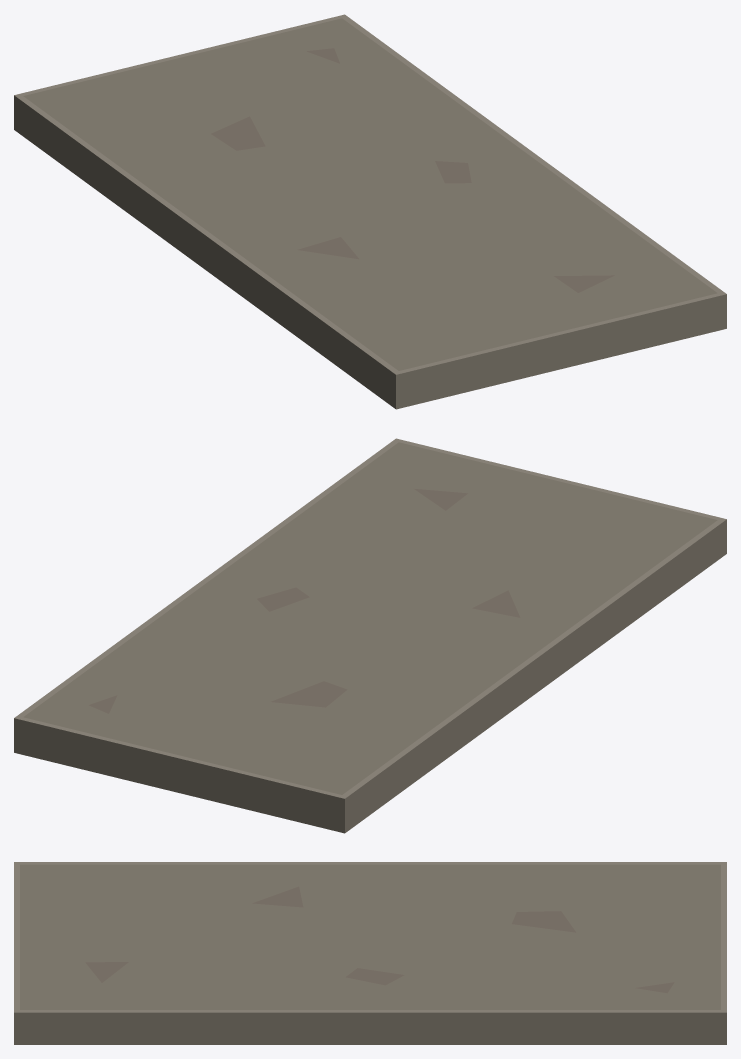
File: ConcrateSlabs_A_3_3.fbx
The picture shows the model from 3 angles, top to bottom: view 1: azimuth 30°, elevation 25°; view 2: azimuth 150°, elevation 25°; view 3: azimuth 270°, elevation 25°; orthographic projection. The views are drawn at different scales.
Visible parts, largest first — view 1: ConcrateSlabs_A_3_3; view 2: ConcrateSlabs_A_3_3; view 3: ConcrateSlabs_A_3_3.
Part boxes in pixels (x1=…): ConcrateSlabs_A_3_3: x1=14, y1=14, x2=726, y2=409; ConcrateSlabs_A_3_3: x1=14, y1=438, x2=726, y2=833; ConcrateSlabs_A_3_3: x1=14, y1=862, x2=726, y2=1044.
Size of the model in its own units: 400 by 40 by 800.
